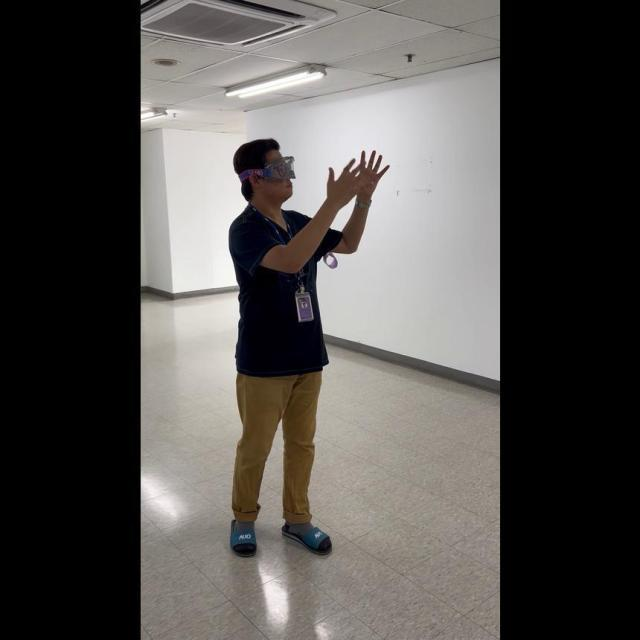bare_hand: (324, 159, 369, 207), (353, 149, 388, 199)
